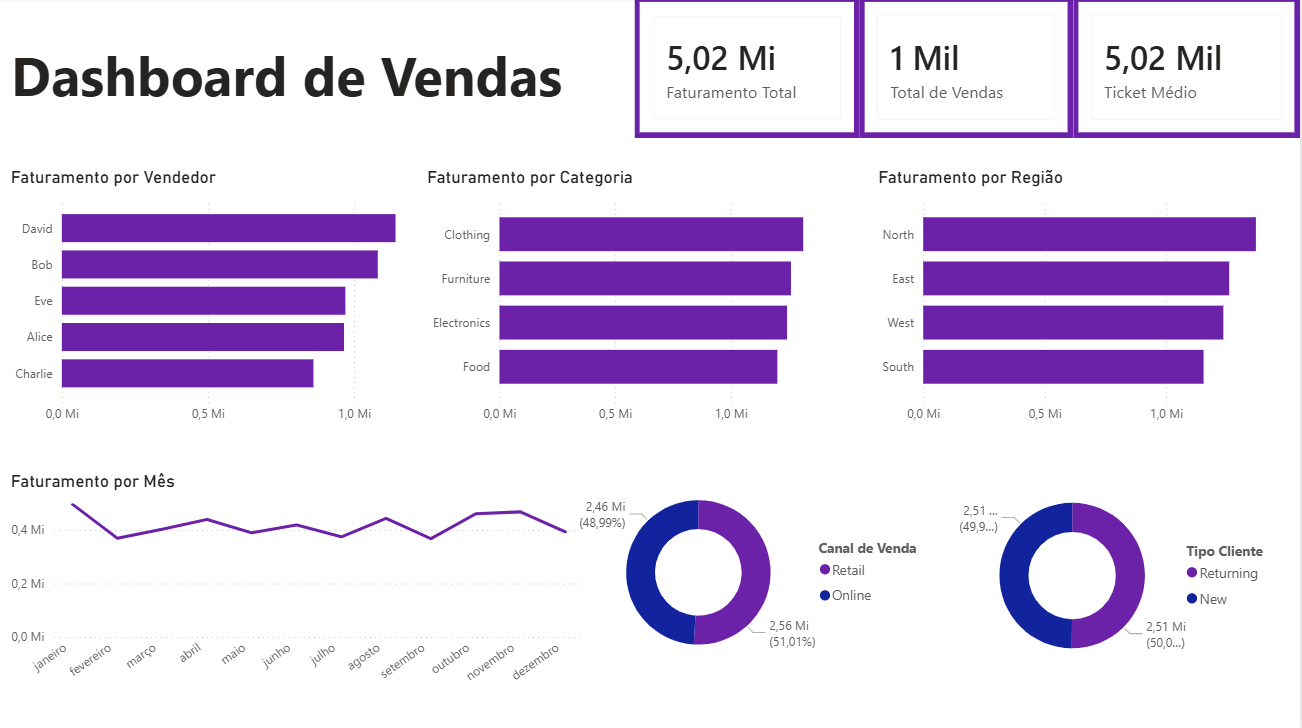

The dashboard page shown, as its layout file describes it:
{"tool":"powerbi","page":{"name":"Página 1","canvas":[1280,720],"ordinal":0},"visuals":[{"type":"cardVisual","fields":{"Data":["Sum(analise_dados vendas.Sales_Amount)"]},"box":[627,0,220.9,138.7],"z":0},{"type":"cardVisual","fields":{"Data":["CountNonNull(analise_dados vendas.Product_ID)"]},"box":[847.9,0,209.8,138.7],"z":1000},{"type":"cardVisual","fields":{"Data":["Avg(analise_dados vendas.Sales_Amount)"]},"box":[1057.7,0,222.1,138.7],"z":2000},{"type":"clusteredBarChart","title":"Faturamento por Vendedor","fields":{"Category":["analise_dados vendas.Sales_Rep"],"Y":["Sum(analise_dados vendas.Sales_Amount)"]},"box":[9.6,167.4,421.3,260.7],"z":3000},{"type":"clusteredBarChart","title":"Faturamento por Categoria","fields":{"Category":["analise_dados vendas.Product_Category"],"Y":["Sum(analise_dados vendas.Sales_Amount)"]},"box":[418.5,167.4,415.8,260.7],"z":4000},{"type":"clusteredBarChart","title":"Faturamento por Região","fields":{"Category":["analise_dados vendas.Region"],"Y":["Sum(analise_dados vendas.Sales_Amount)"]},"box":[861.8,167.4,404.8,260.7],"z":5000},{"type":"lineChart","title":"Faturamento por Mês","fields":{"Category":["analise_dados vendas.Sale_Date.Variation.Hierarquia de datas.Mês"],"Y":["Sum(analise_dados vendas.Sales_Amount)"]},"box":[9.8,465,571.8,229.4],"z":6000},{"type":"donutChart","title":"Canal de Venda","fields":{"Category":["analise_dados vendas.Sales_Channel"],"Y":["Sum(analise_dados vendas.Sales_Amount)"]},"box":[566.9,427,359.5,276.1],"z":7000},{"type":"donutChart","title":"Tipo de Cliente","fields":{"Category":["analise_dados vendas.Customer_Type"],"Y":["Sum(analise_dados vendas.Sales_Amount)"]},"box":[939.9,451.5,326.4,233.1],"z":8000},{"type":"textbox","box":[9.8,34.4,571.8,104.3],"z":9000}]}

Visuals, with their boxes in screenshot pixels (x1, y1, x2, y2), scaled from the page's 1280x720 canvas onto the 1302x728 screenshot:
cardVisual - Sum(analise_dados vendas.Sales_Amount): crop(638, 0, 862, 140)
cardVisual - CountNonNull(analise_dados vendas.Product_ID): crop(862, 0, 1076, 140)
cardVisual - Avg(analise_dados vendas.Sales_Amount): crop(1076, 0, 1301, 140)
"Faturamento por Vendedor" clusteredBarChart: crop(10, 169, 438, 433)
"Faturamento por Categoria" clusteredBarChart: crop(426, 169, 849, 433)
"Faturamento por Região" clusteredBarChart: crop(877, 169, 1288, 433)
"Faturamento por Mês" lineChart: crop(10, 470, 592, 702)
"Canal de Venda" donutChart: crop(577, 432, 942, 711)
"Tipo de Cliente" donutChart: crop(956, 457, 1288, 692)
textbox: crop(10, 35, 592, 140)
